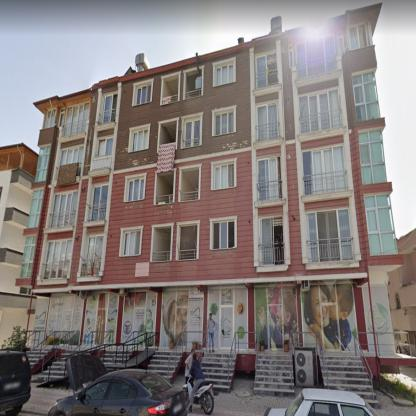door: (320, 303, 340, 351), (267, 304, 283, 349), (219, 305, 234, 349), (176, 306, 188, 347), (95, 309, 107, 344), (133, 307, 145, 332), (61, 309, 73, 330)
window: (306, 207, 354, 262), (302, 144, 348, 195), (366, 193, 398, 255), (299, 87, 341, 134), (296, 33, 336, 78), (359, 130, 386, 183), (352, 72, 380, 122), (256, 155, 282, 201), (43, 239, 71, 278), (51, 191, 77, 227), (256, 102, 279, 142), (255, 51, 279, 88), (64, 102, 89, 136), (259, 217, 275, 266), (212, 220, 235, 250), (21, 235, 36, 278), (90, 185, 108, 220), (27, 189, 43, 228), (182, 117, 200, 148), (214, 110, 235, 136), (35, 146, 50, 182), (214, 162, 234, 189), (348, 22, 367, 50), (122, 230, 141, 256), (60, 145, 83, 165), (216, 61, 234, 86), (102, 94, 117, 123), (127, 177, 145, 201), (131, 128, 148, 152), (136, 83, 152, 105), (96, 137, 113, 157), (44, 109, 56, 128), (337, 31, 343, 55), (289, 44, 294, 68), (59, 108, 65, 126)
